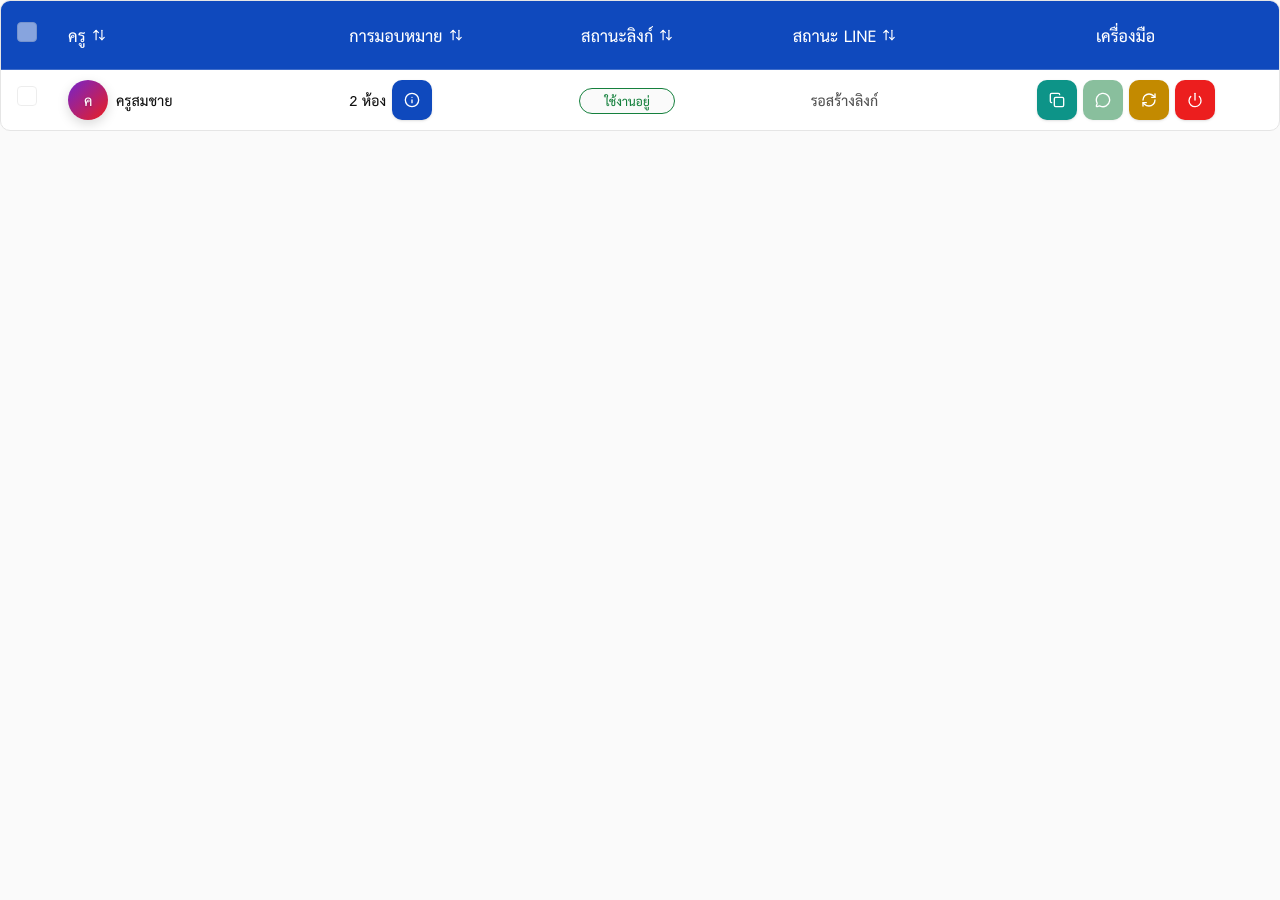
Test: ClassroomLinksTable › separates teachers from assignments and opens the room list
Expected: the column heading "ครู" is shown, [52,1,333,70]
Expected: the column heading "การมอบหมาย" is shown, [333,1,538,70]
Step 1. Click the button named "ดูชั้นและห้องที่มอบหมายให้ ครูสมชาย" → {"x": 412, "y": 100}, box [392,80,432,120]
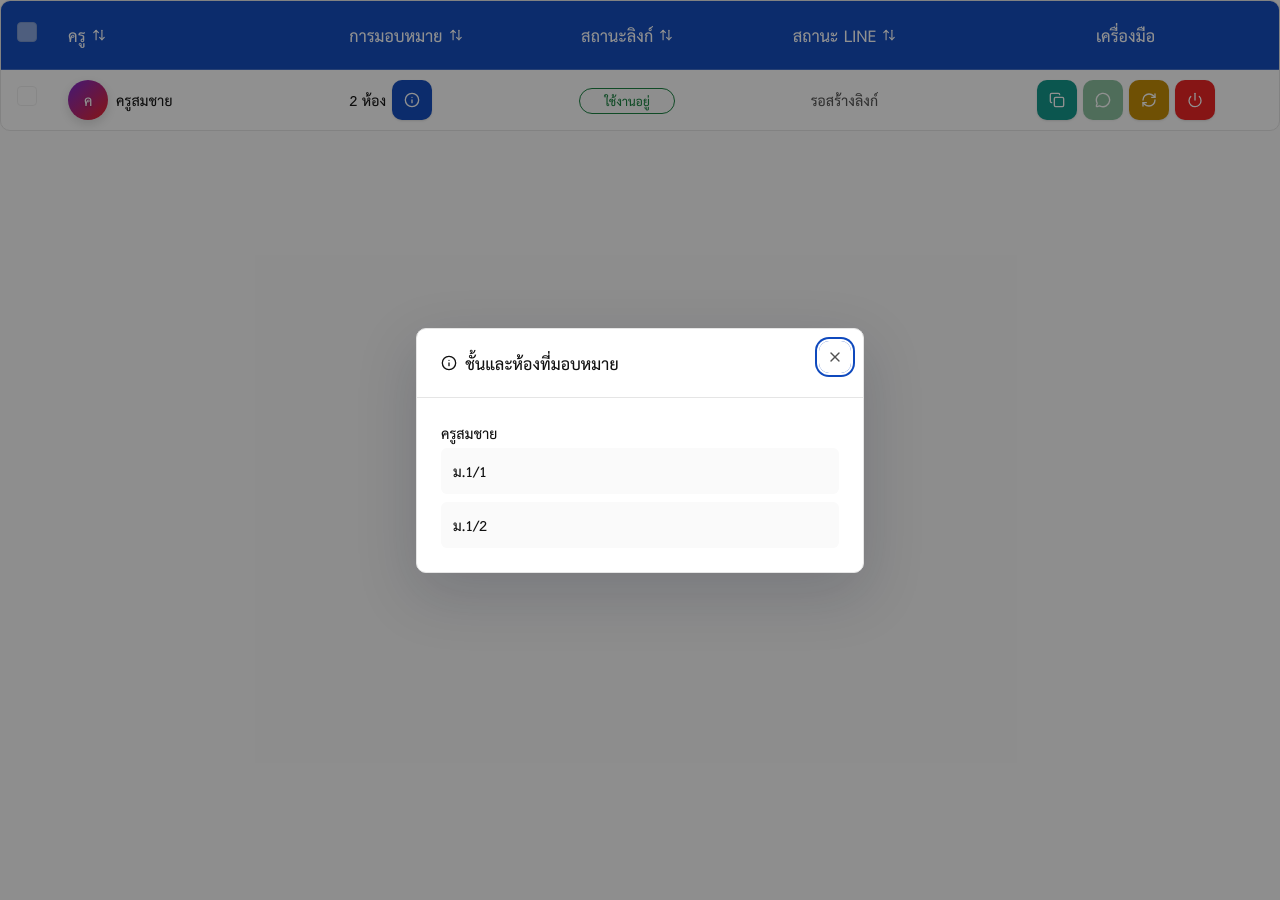
Now the dialog shows "ม.1/1", box [453,458,487,482]
Now the dialog shows "ม.1/2", box [453,512,487,536]
